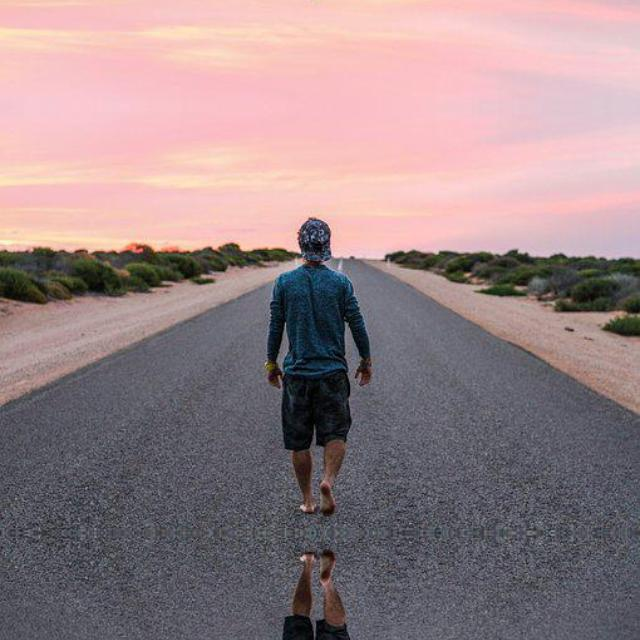person: (256, 212, 374, 520), (256, 546, 373, 640)
